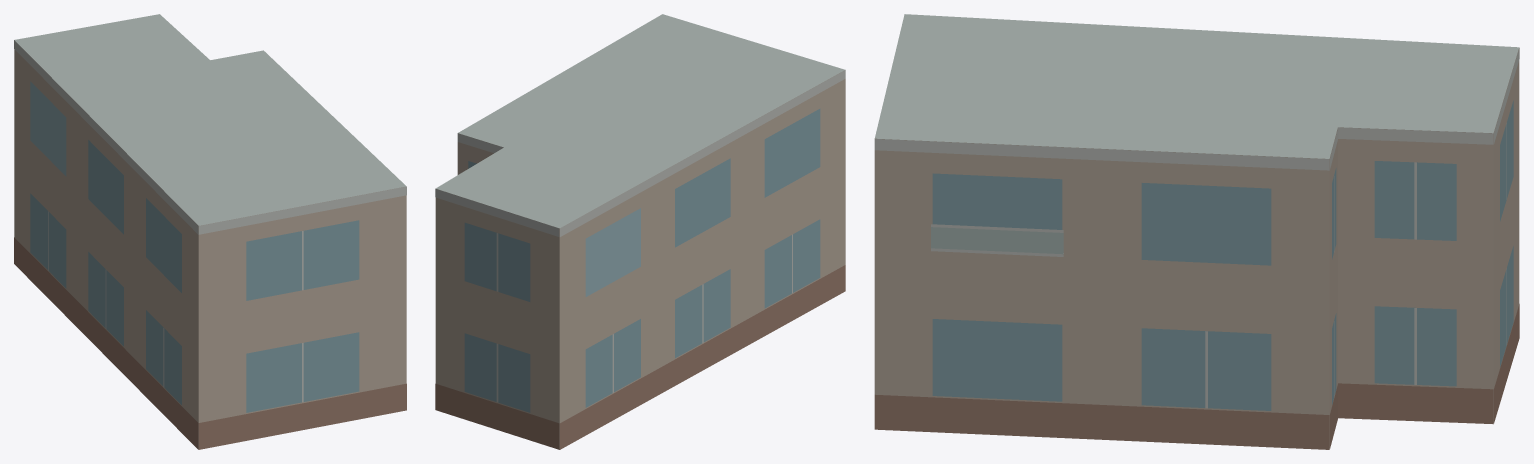
File: survey-upis-32963397.glb
The picture shows the model from 3 angles, left to right: view 1: azimuth 30°, elevation 25°; view 2: azimuth 150°, elevation 25°; view 3: azimuth 270°, elevation 25°; orthographic projection. The views are drawn at different scales.
Visible parts, largest first — view 1: survey-upis-32963397.tmp; view 2: survey-upis-32963397.tmp; view 3: survey-upis-32963397.tmp.
Part boxes in pixels (x1,y1,x2,y2): survey-upis-32963397.tmp: (14, 14, 406, 449); survey-upis-32963397.tmp: (435, 14, 845, 449); survey-upis-32963397.tmp: (874, 14, 1519, 449).
Size of the model in its own units: 6.53 by 6.1 by 12.27.
